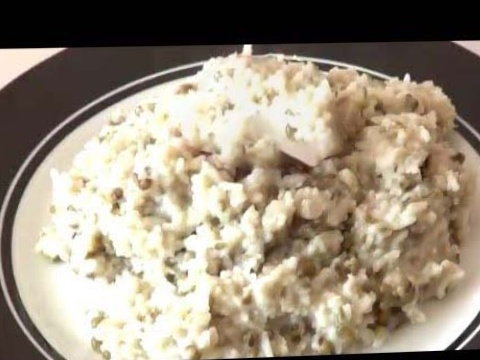kiribath: (32, 41, 480, 360)
